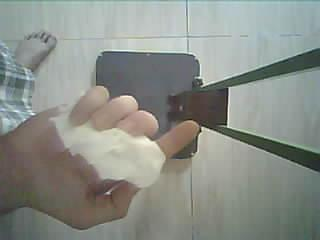paper: (53, 112, 166, 188)
